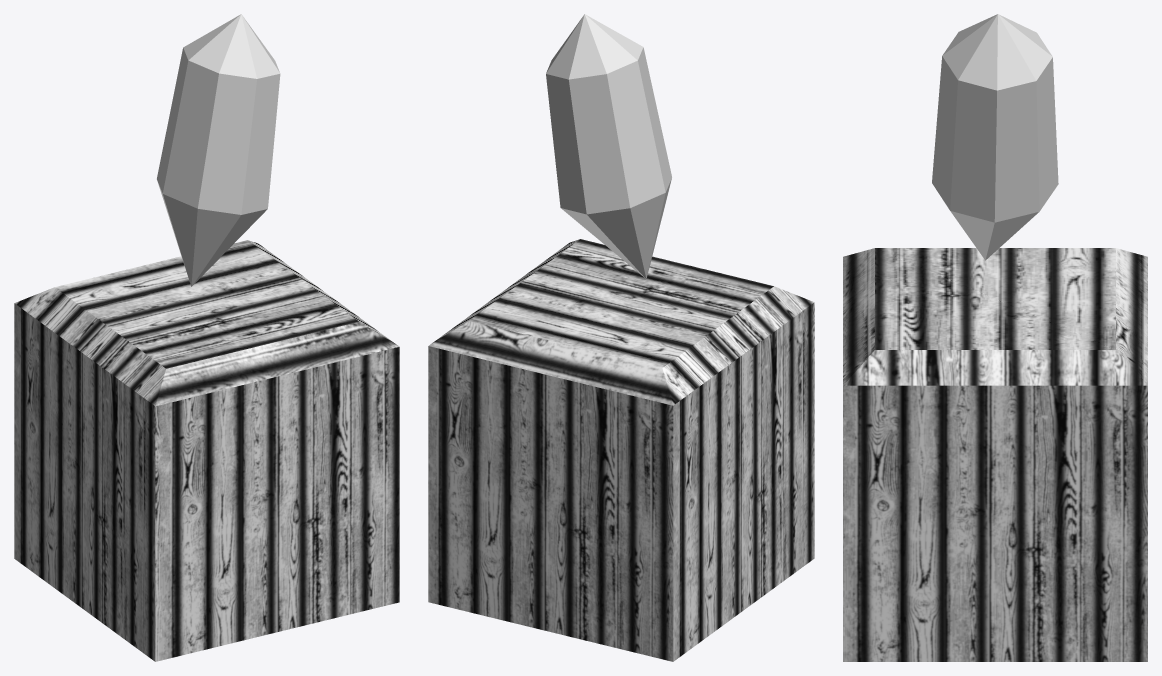
Rendered from Fragment.fbx.
3 views of the same model, side by side, from view 1: azimuth 30°, elevation 25°; view 2: azimuth 150°, elevation 25°; view 3: azimuth 270°, elevation 25° (orthographic). The views are drawn at different scales.
Visible parts, largest first — view 1: Fragment Stand, Fragment; view 2: Fragment Stand, Fragment; view 3: Fragment Stand, Fragment.
Boxes of the visible parts, <box> form: Fragment Stand: <box>14,240,399,661</box>; Fragment: <box>157,14,280,286</box>; Fragment Stand: <box>428,239,814,661</box>; Fragment: <box>546,14,671,279</box>; Fragment Stand: <box>843,248,1147,661</box>; Fragment: <box>932,14,1058,260</box>.
Bounding box in the file's own units: 200 × 436 × 200.
